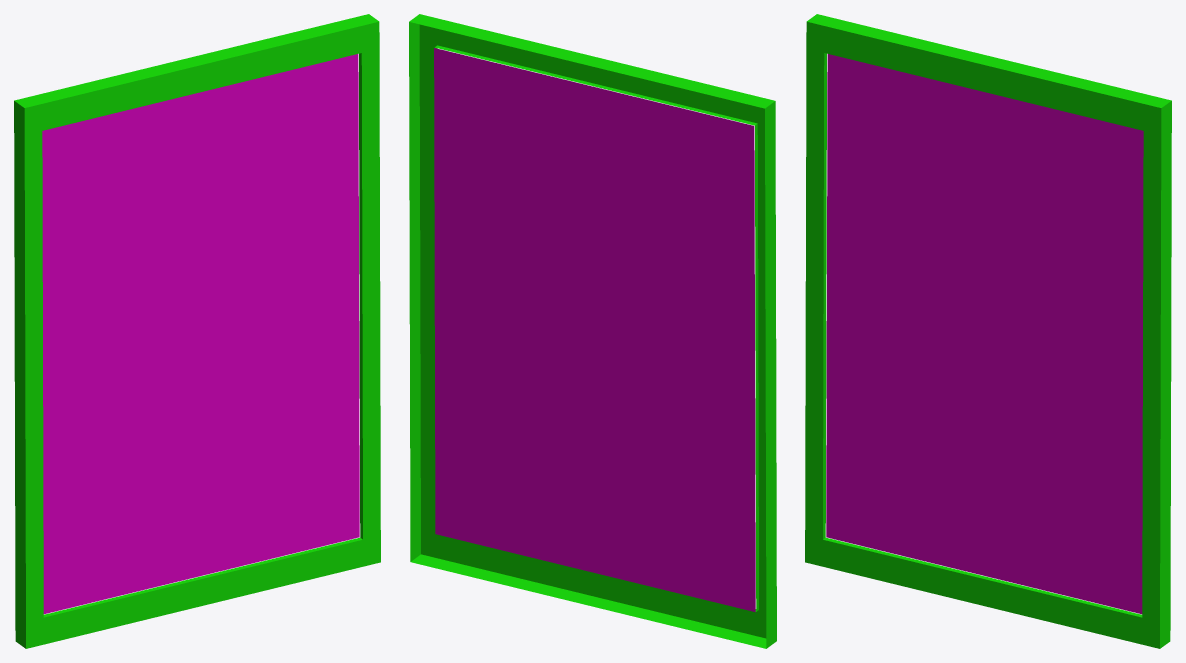
File: PrimaryCameraMonitor.fbx
3 views of the same model, side by side, from view 1: azimuth 30°, elevation 25°; view 2: azimuth 150°, elevation 25°; view 3: azimuth 330°, elevation 25° (orthographic).
Visible parts, largest first — view 1: Main Camera 1.001, Main Camera 1; view 2: Main Camera 1.001, Main Camera 1; view 3: Main Camera 1.001, Main Camera 1.
Boxes of the visible parts, box(x1,y1,x2,y2) form: Main Camera 1.001: box(42, 54, 359, 614); Main Camera 1: box(14, 14, 380, 648); Main Camera 1.001: box(434, 48, 755, 612); Main Camera 1: box(409, 14, 776, 648); Main Camera 1.001: box(826, 54, 1143, 614); Main Camera 1: box(805, 14, 1171, 648).
Size of the model in its own units: 554 by 806 by 32.41.
